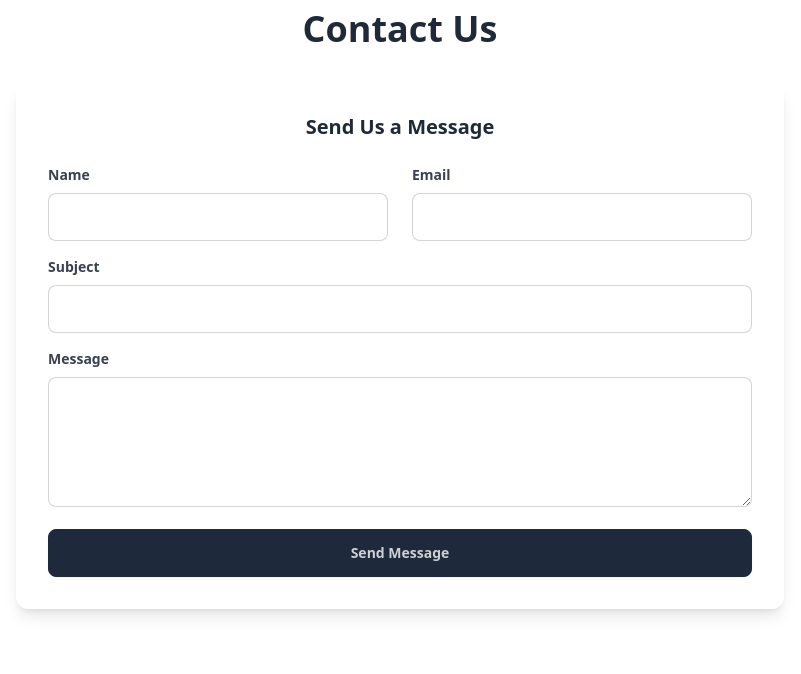
Scenario: Contact Component › displays success message on form submission
Type "John Doe" into the field labelled "Name". click: (218, 217)
box: [48,193,388,241]
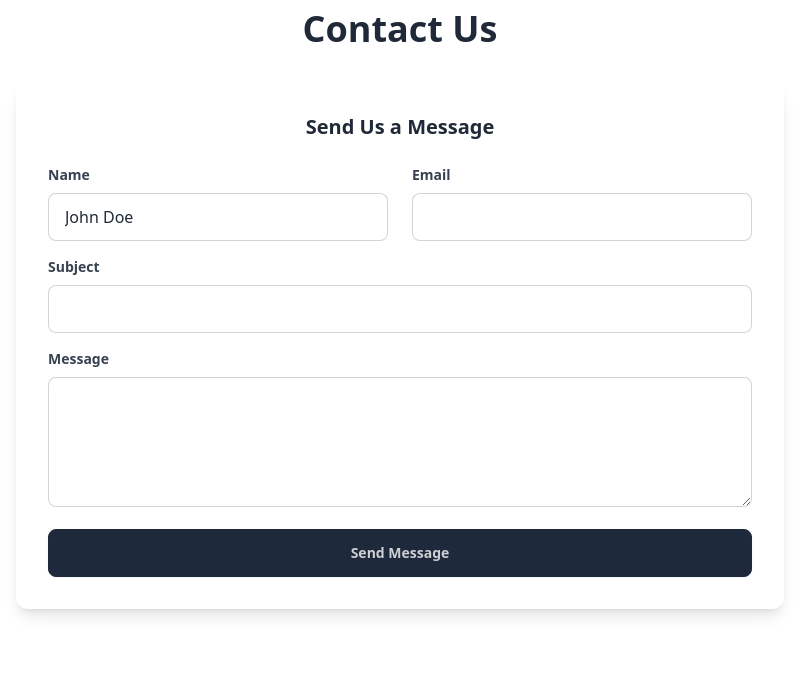
Type "john.doe@example.com" into the field labelled "Email". click: (582, 217)
box: [412,193,752,241]
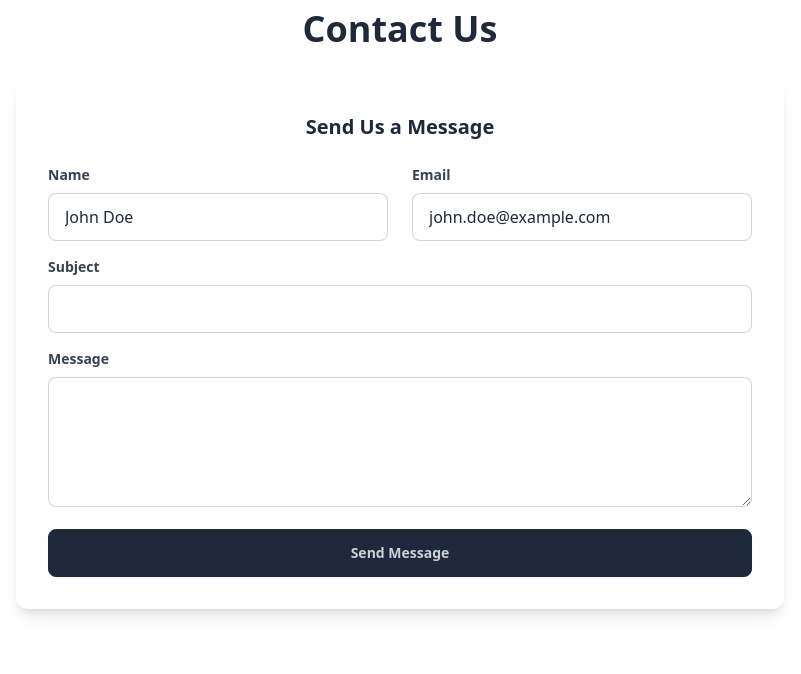
Type "Testing Subject" into the field labelled "Subject". click: (400, 309)
box: [48,285,752,333]
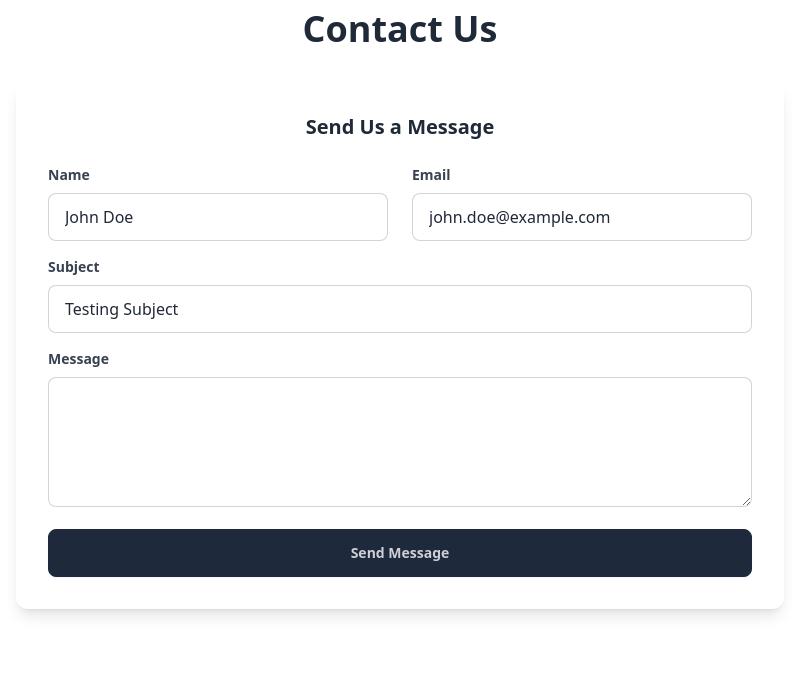
Type "This is a test message." into the text box labelled "Message". click: (400, 442)
box: [48,377,752,507]
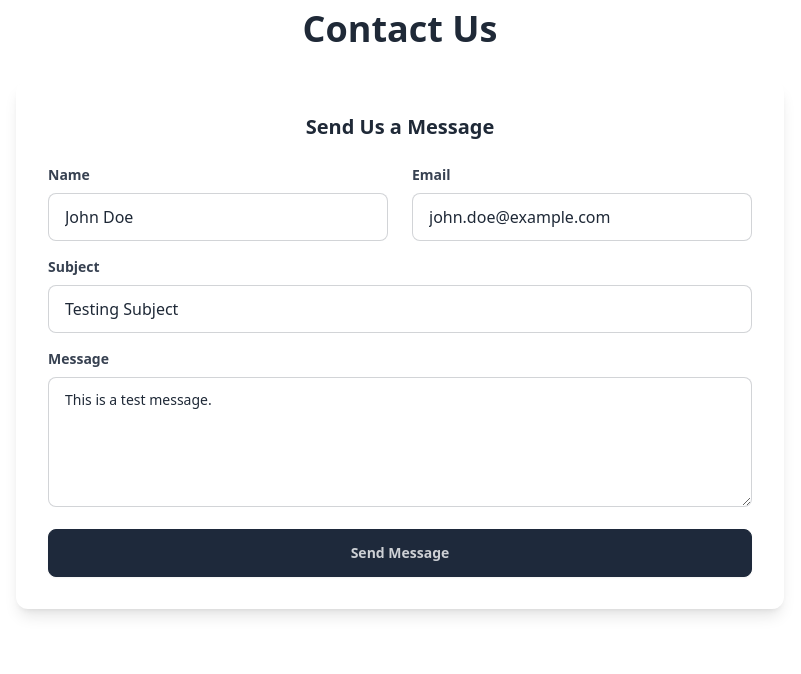
Click the button "Send Message". click: click(400, 553)
box: [48,529,752,577]
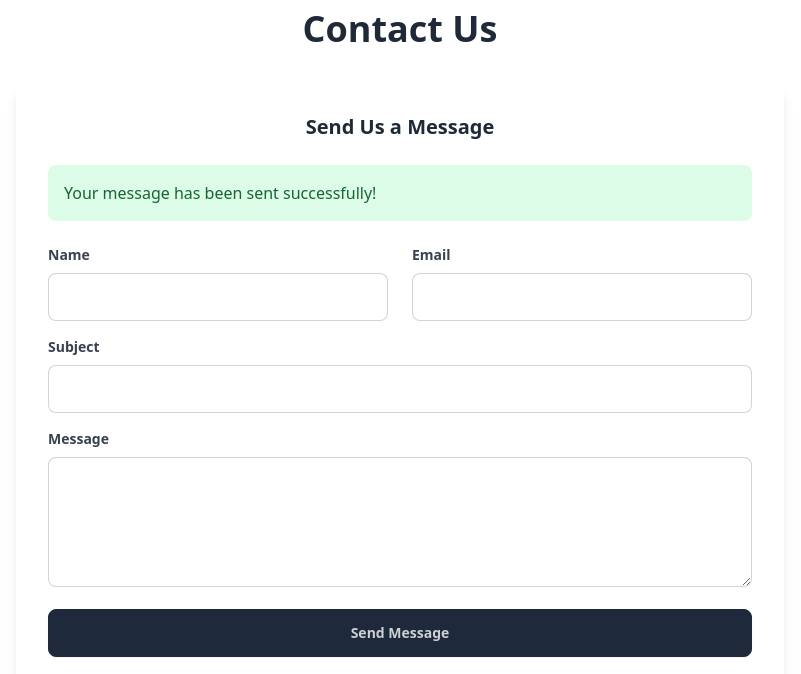
Result: the text "Your message has been sent successfully!" is shown at [48,165,752,221]
Result: the field labelled "Name" is empty at [48,273,388,321]
Result: the field labelled "Email" is empty at [412,273,752,321]
